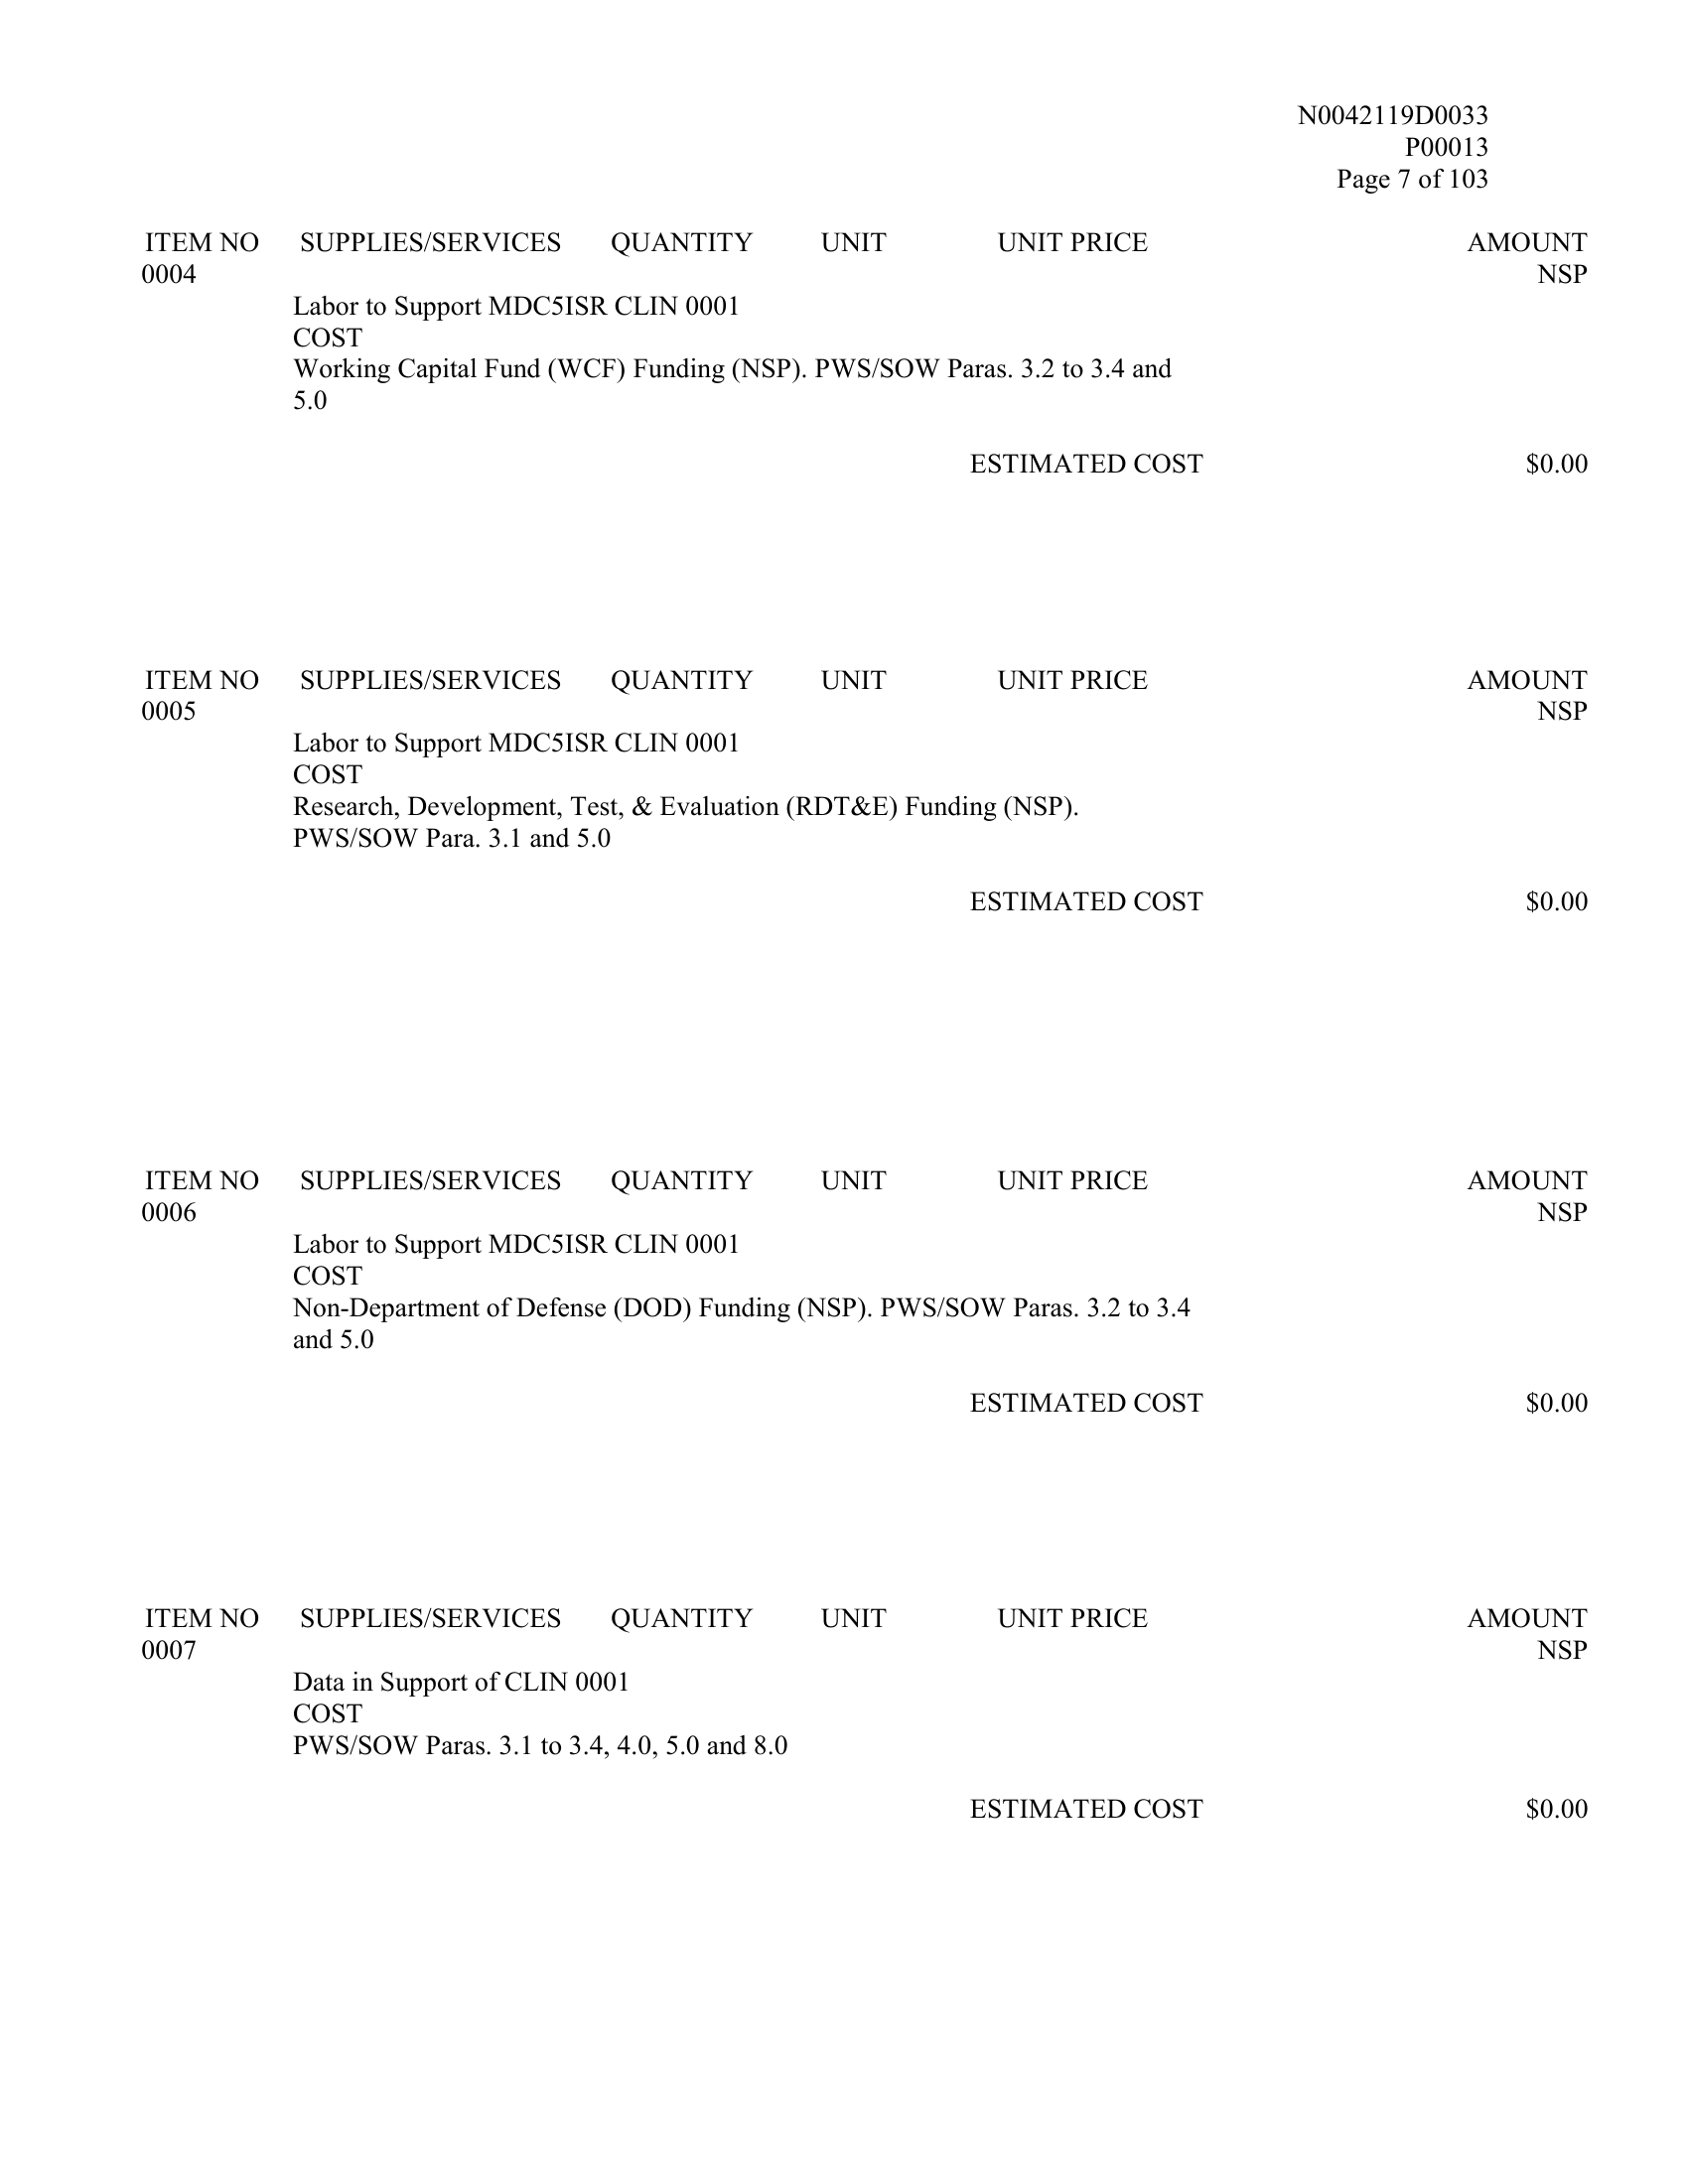table: (128, 220, 1599, 498), (137, 1161, 1596, 1420), (138, 659, 1596, 916), (140, 1595, 1592, 1835)
table column: (952, 220, 1296, 498), (931, 659, 1293, 916), (950, 1161, 1298, 1420), (270, 220, 582, 498), (1298, 220, 1601, 500), (273, 1161, 594, 1422), (278, 658, 598, 915), (1270, 1597, 1596, 1835), (1298, 1161, 1596, 1420), (1294, 663, 1598, 915), (954, 1597, 1270, 1835), (277, 1595, 582, 1833), (583, 216, 784, 495), (598, 1161, 791, 1420), (582, 1595, 784, 1833), (596, 659, 784, 915), (787, 216, 949, 498), (789, 1159, 949, 1420), (787, 1597, 956, 1833), (126, 220, 268, 498), (782, 659, 933, 916), (138, 659, 275, 916), (137, 1163, 271, 1420), (138, 1595, 278, 1835)
table column header: (126, 220, 1594, 261), (142, 1595, 1590, 1634), (138, 663, 1592, 697), (137, 1163, 1596, 1193)
table row: (128, 257, 1603, 427), (131, 1198, 1594, 1358), (138, 697, 1596, 856), (138, 1634, 1596, 1766)
